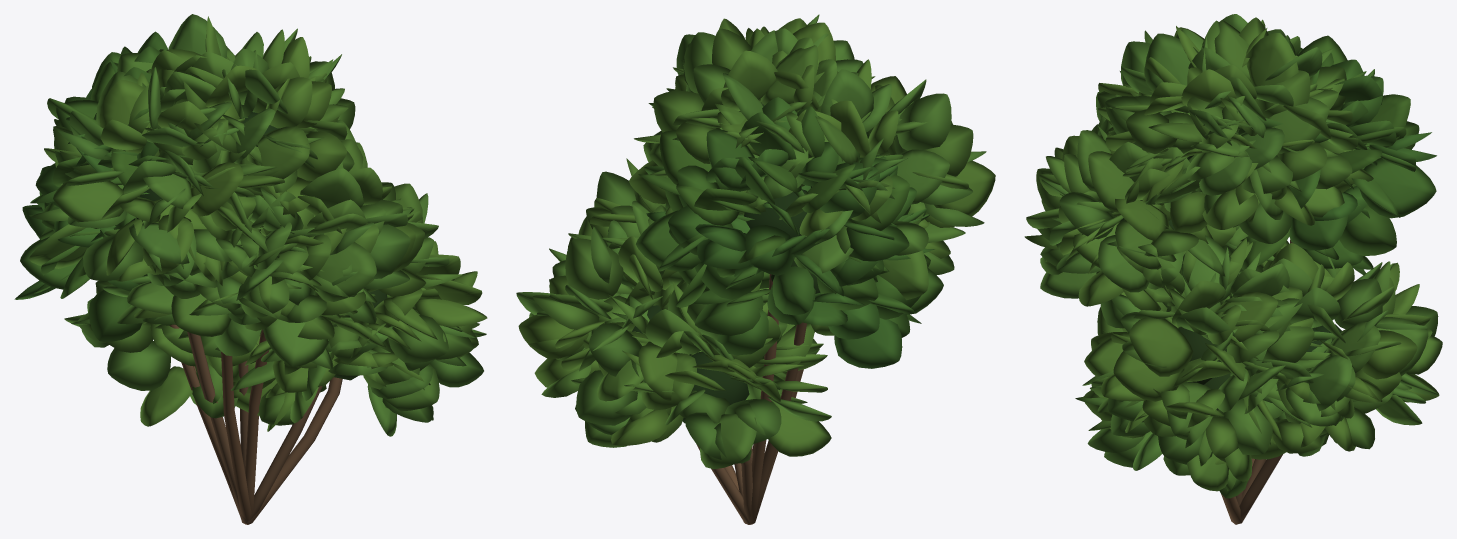
Rendered from hedge_shrub.glb.
3 renders of one model, left to right at view 1: azimuth 30°, elevation 25°; view 2: azimuth 150°, elevation 25°; view 3: azimuth 270°, elevation 25°, orthographic. The views are drawn at different scales.
Parts seen in each view (by area): view 1: Sammel Pflanze, Sammel Holz, Sammel Blatt; view 2: Sammel Pflanze, Sammel Holz, Sammel Blatt; view 3: Sammel Pflanze, Sammel Holz, Sammel Blatt.
Boxes of the visible parts, x1,y1,x2,y2 form: Sammel Pflanze: (14,14,487,436); Sammel Holz: (169,324,342,524); Sammel Blatt: (130,112,387,380); Sammel Pflanze: (516,14,995,469); Sammel Holz: (696,274,806,524); Sammel Blatt: (626,104,820,423); Sammel Pflanze: (1024,14,1442,498); Sammel Holz: (1221,239,1293,524); Sammel Blatt: (1120,155,1341,410).
Size of the model in its own units: 1.1 by 1.26 by 0.9868.
